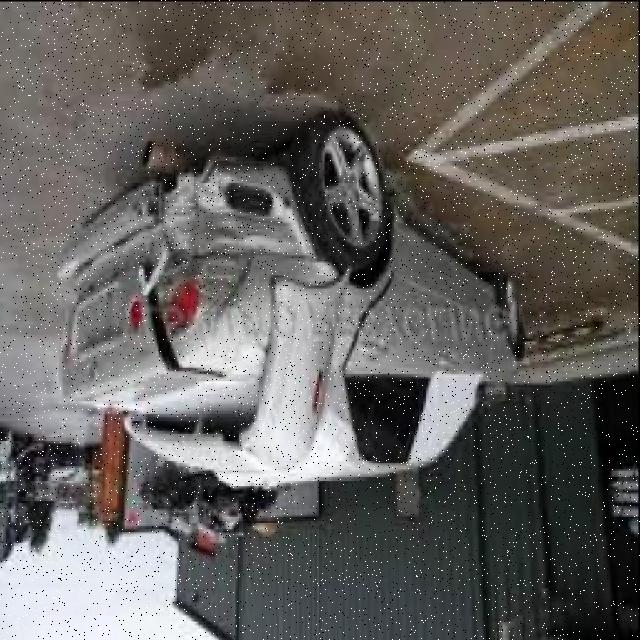damage: (58, 160, 361, 480)
